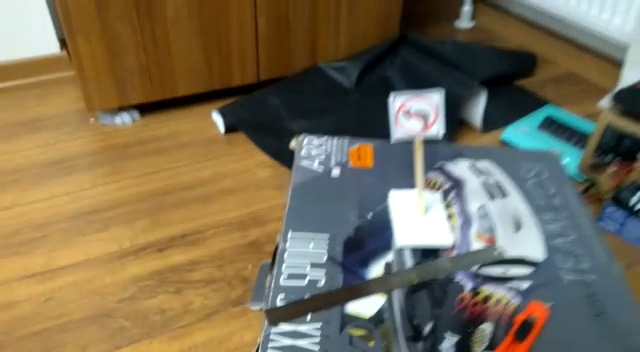sola_donulmez: (394, 92, 441, 137)
